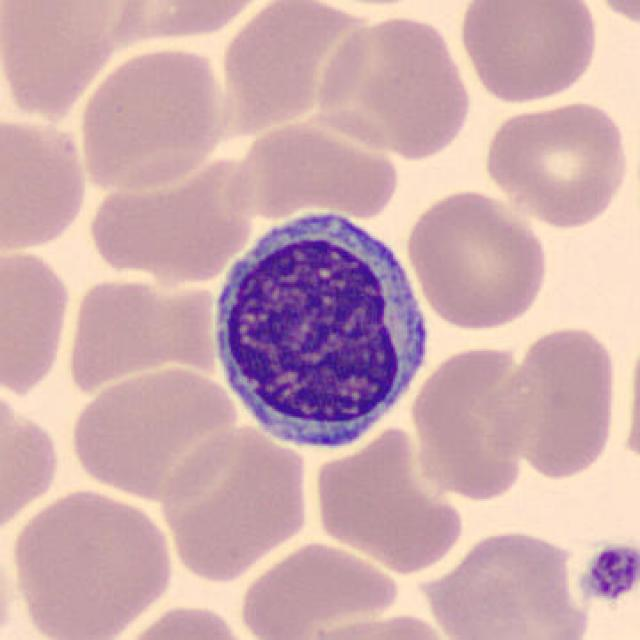Lymphocyte: (203, 201, 439, 458)
Platelets: (580, 538, 638, 604)
RBC: (5, 485, 178, 640), (154, 420, 314, 584), (66, 362, 242, 502), (313, 9, 475, 160), (73, 42, 231, 196), (486, 321, 622, 483), (404, 185, 551, 333), (84, 149, 247, 281), (419, 523, 595, 640), (480, 97, 633, 229), (222, 118, 398, 222), (234, 537, 403, 640), (213, 0, 362, 114), (2, 0, 128, 125), (455, 0, 603, 106), (62, 274, 180, 398), (0, 109, 92, 255), (0, 244, 75, 401), (0, 381, 64, 541), (87, 0, 279, 46), (108, 601, 258, 640), (293, 610, 459, 640), (620, 312, 640, 480), (0, 527, 18, 640), (585, 0, 640, 33)
